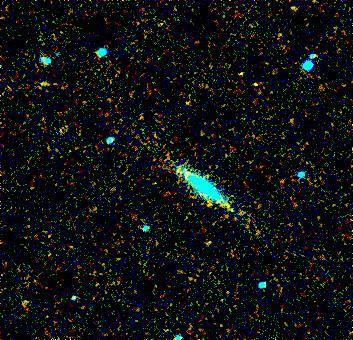star: (217, 194, 247, 224)
